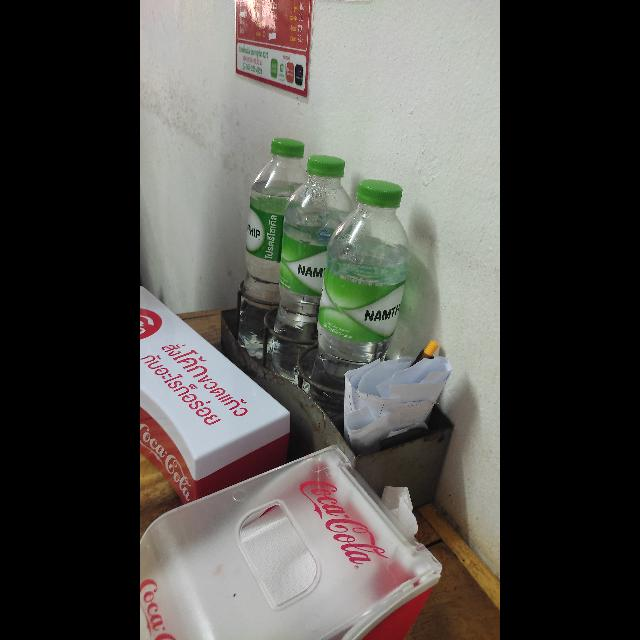plastic_bottle: (314, 180, 412, 422), (263, 154, 367, 374), (226, 138, 318, 362)
plastic_bottle_cap: (353, 177, 405, 209), (308, 153, 344, 179), (270, 140, 304, 158)
scrap_paper: (342, 354, 450, 448), (379, 483, 421, 549)
